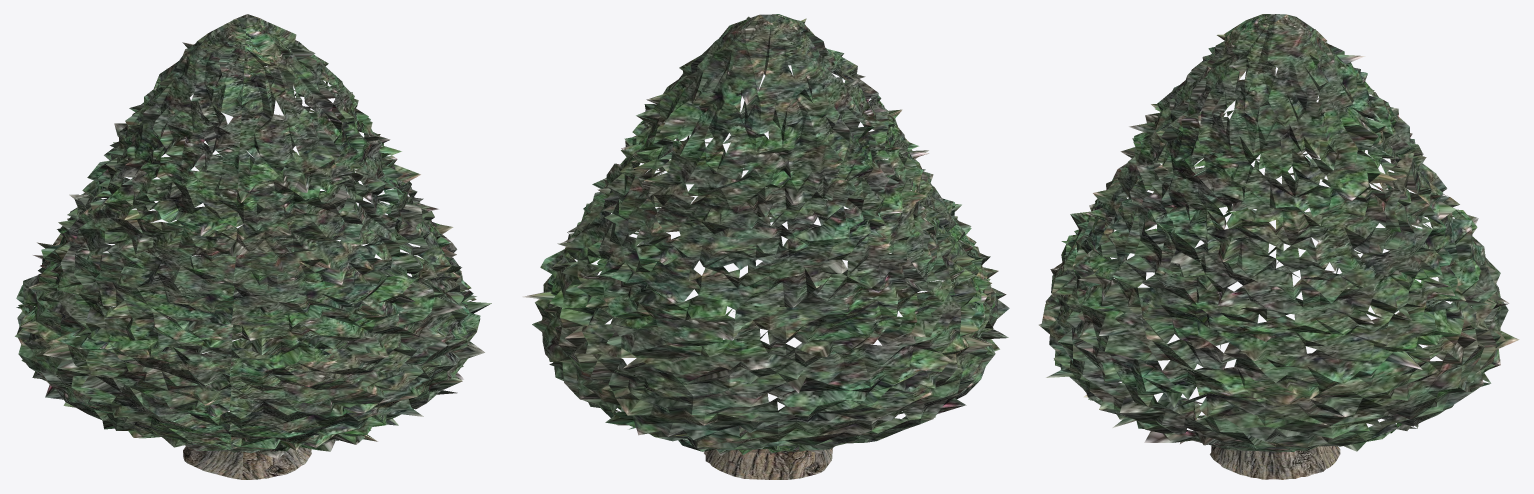
Rendered from sh-scopia-cypress.glb.
3 views of the same model, side by side, from view 1: azimuth 30°, elevation 25°; view 2: azimuth 150°, elevation 25°; view 3: azimuth 270°, elevation 25° (orthographic).
Visible parts, largest first — view 1: Leaves_Circle, Trunk_Circle.001; view 2: Leaves_Circle, Trunk_Circle.001; view 3: Leaves_Circle, Trunk_Circle.001.
Part boxes in pixels (<box>): Leaves_Circle: <box>15,14,491,458</box>; Trunk_Circle.001: <box>183,446,311,479</box>; Leaves_Circle: <box>522,14,1009,455</box>; Trunk_Circle.001: <box>704,426,832,479</box>; Leaves_Circle: <box>1039,14,1519,451</box>; Trunk_Circle.001: <box>1210,445,1340,479</box>.
Size of the model in its own units: 1 by 1 by 0.9956.
Materials: 2 (2 with a texture image).
